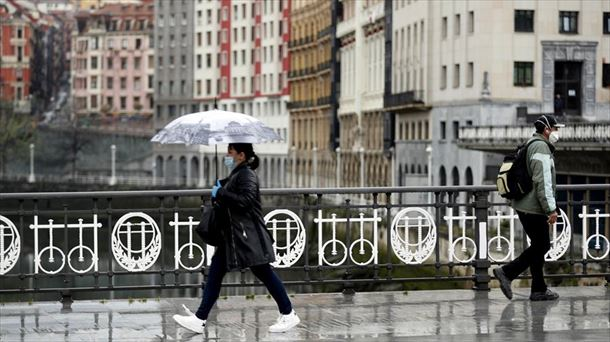with_mask: (532, 112, 565, 147), (220, 141, 256, 171)
